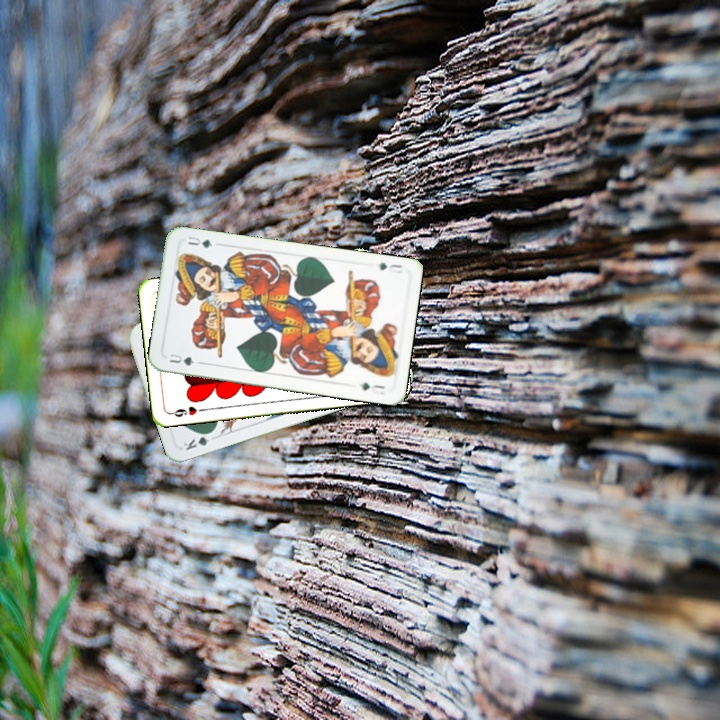GK: (179, 427, 217, 453)
GU: (166, 350, 203, 368), (375, 258, 404, 276)
H9: (167, 402, 207, 420)
